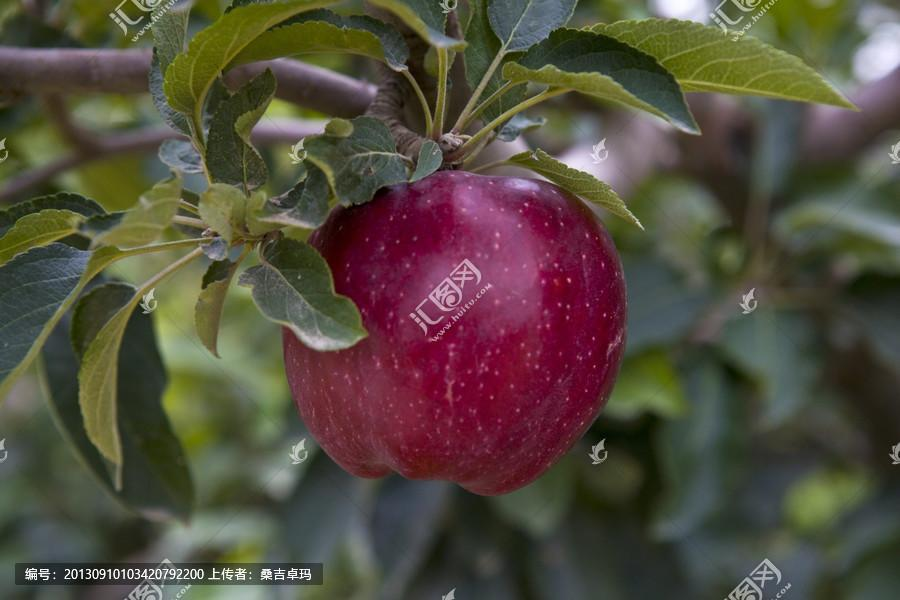apple: (280, 173, 621, 497)
